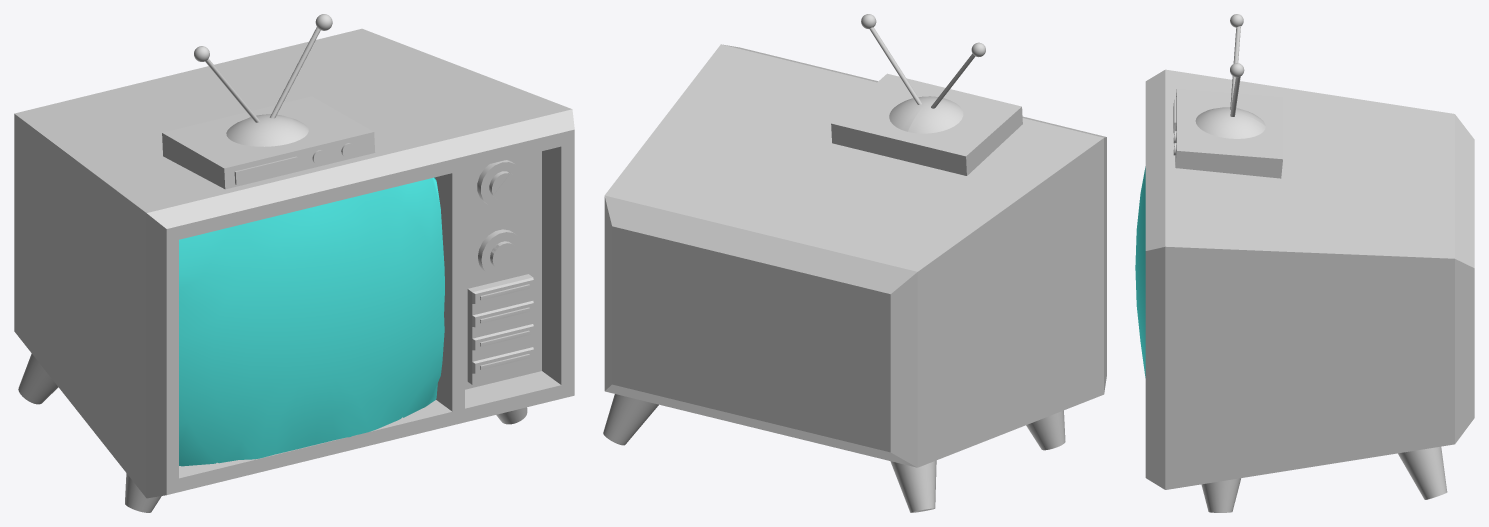
3 views of the same model, side by side, from view 1: azimuth 30°, elevation 25°; view 2: azimuth 150°, elevation 25°; view 3: azimuth 270°, elevation 25° (orthographic). The views are drawn at different scales.
Visible parts, largest first — view 1: Bbox001, screen, Bbox002, Bbox003, Bbox007, Ssphere002, Cones4, Ccylinder007, Ccylinder005, Bbox006, Cones2; view 2: Bbox001, Bbox002, Bbox003, Ssphere002, Cones4, Cones1, Cones2; view 3: Bbox002, Bbox001, Bbox003, Cones1, Ssphere002, screen, Cones.
Part boxes in pixels (x1,y1,x2,y2): Bbox001: (14,58,464,498); screen: (179,177,444,466); Bbox002: (158,28,574,455); Bbox003: (162,96,375,189); Bbox007: (467,274,533,384); Ssphere002: (226,114,308,146); Cones4: (18,353,58,404); Ccylinder007: (478,229,523,277); Ccylinder005: (477,160,522,207); Bbox006: (234,156,298,184); Cones2: (125,473,161,512); Bbox001: (701,69,1106,467); Bbox002: (604,44,877,434); Bbox003: (831,73,1022,175); Ssphere002: (889,96,963,133); Cones4: (890,460,936,512); Cones1: (603,394,658,445); Cones2: (1026,410,1065,450); Bbox002: (1145,136,1474,489); Bbox001: (1145,69,1474,223); Bbox003: (1175,88,1282,178); Cones1: (1398,446,1447,499); Ssphere002: (1195,107,1265,138); screen: (1135,166,1145,377); Cones: (1201,478,1240,512).
Bounding box in the file's own units: 10.72 × 10.64 × 8.67.
